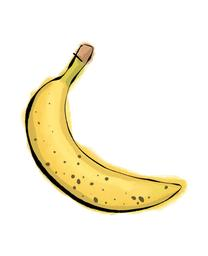banana: (20, 41, 183, 212)
